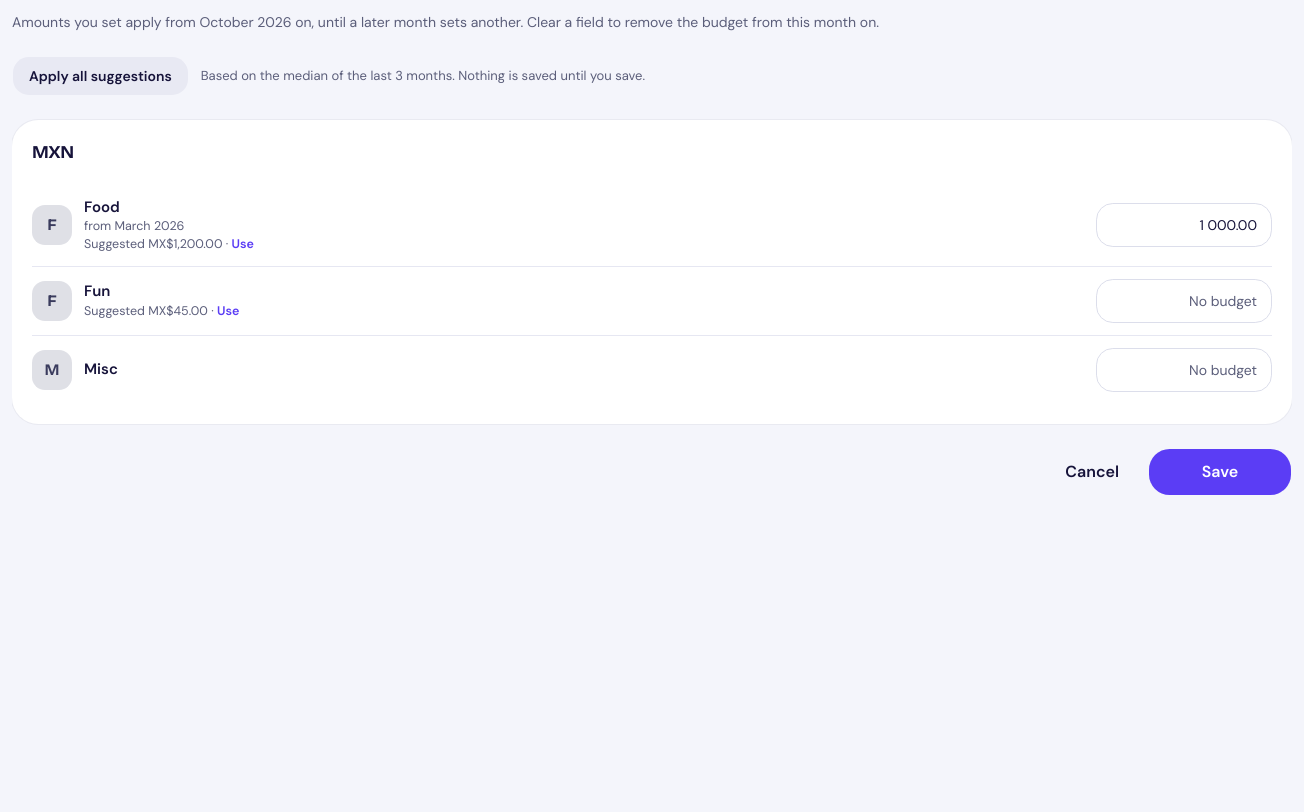
it: BudgetEditor › shows field errors and stays in edit mode
The image size is (1304, 812).
Click the button "Save" at (1220, 472), box x1=1148 y1=448 x2=1292 y2=496
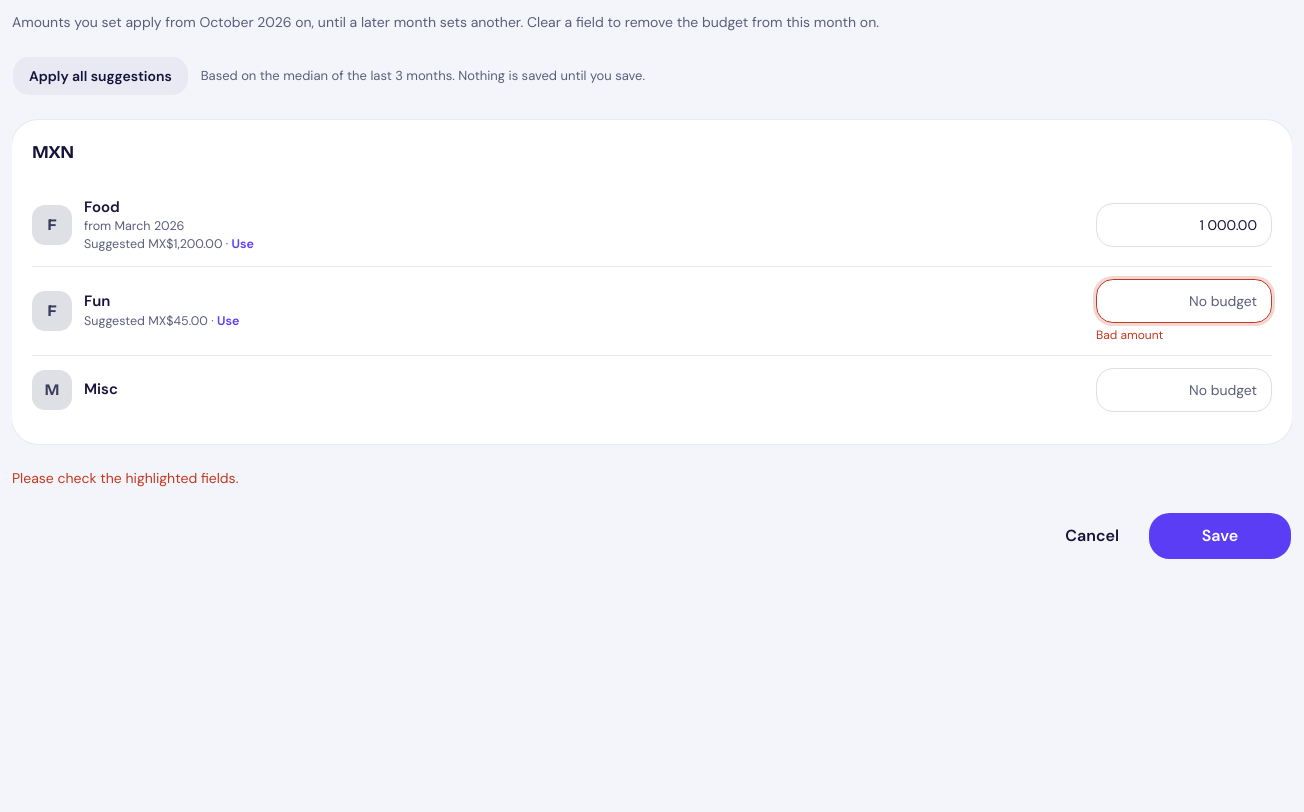
Result: the text "Bad amount" is shown at x1=1096 y1=327 x2=1163 y2=343
